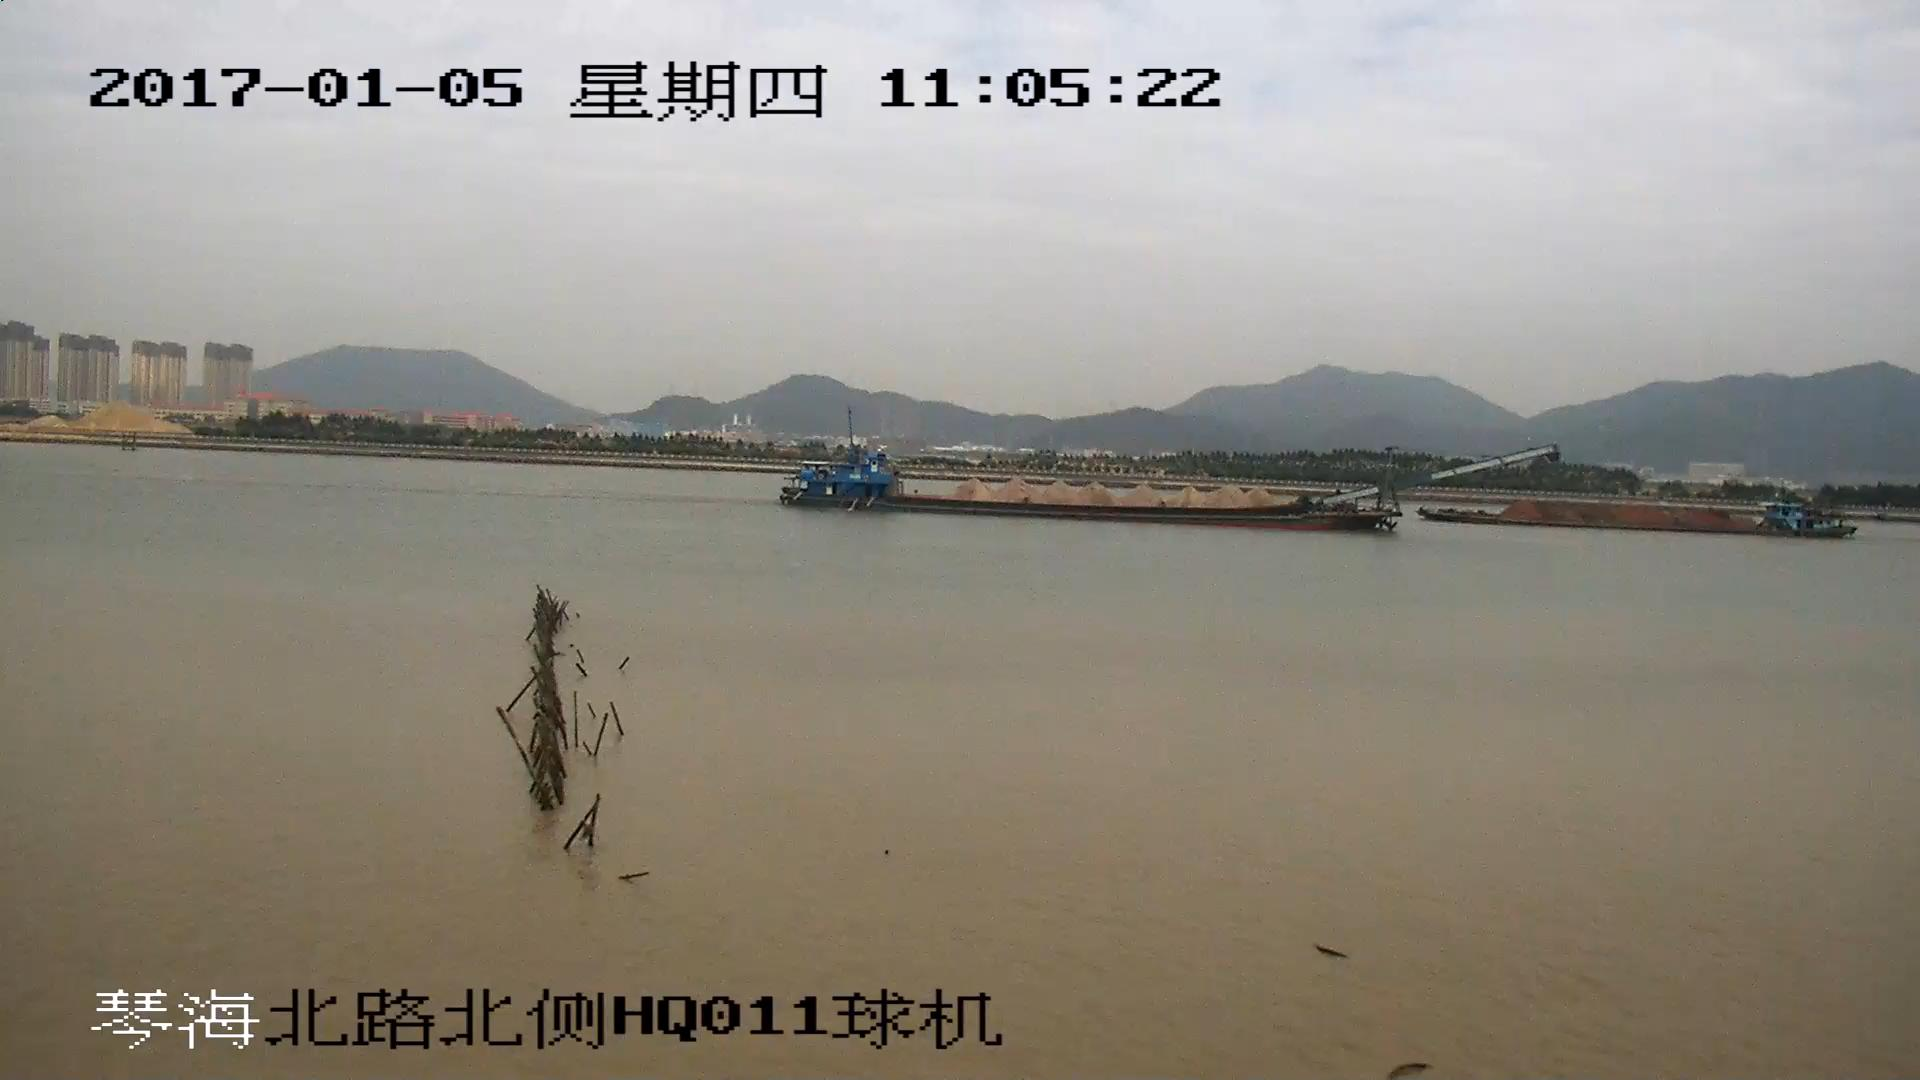ore carrier: (782, 440, 1554, 532), (1426, 496, 1854, 542)
